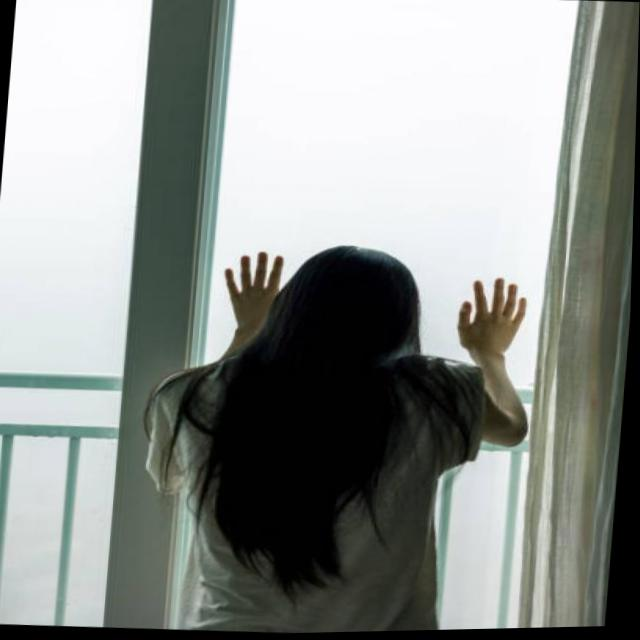no helmet: (271, 241, 433, 367)
